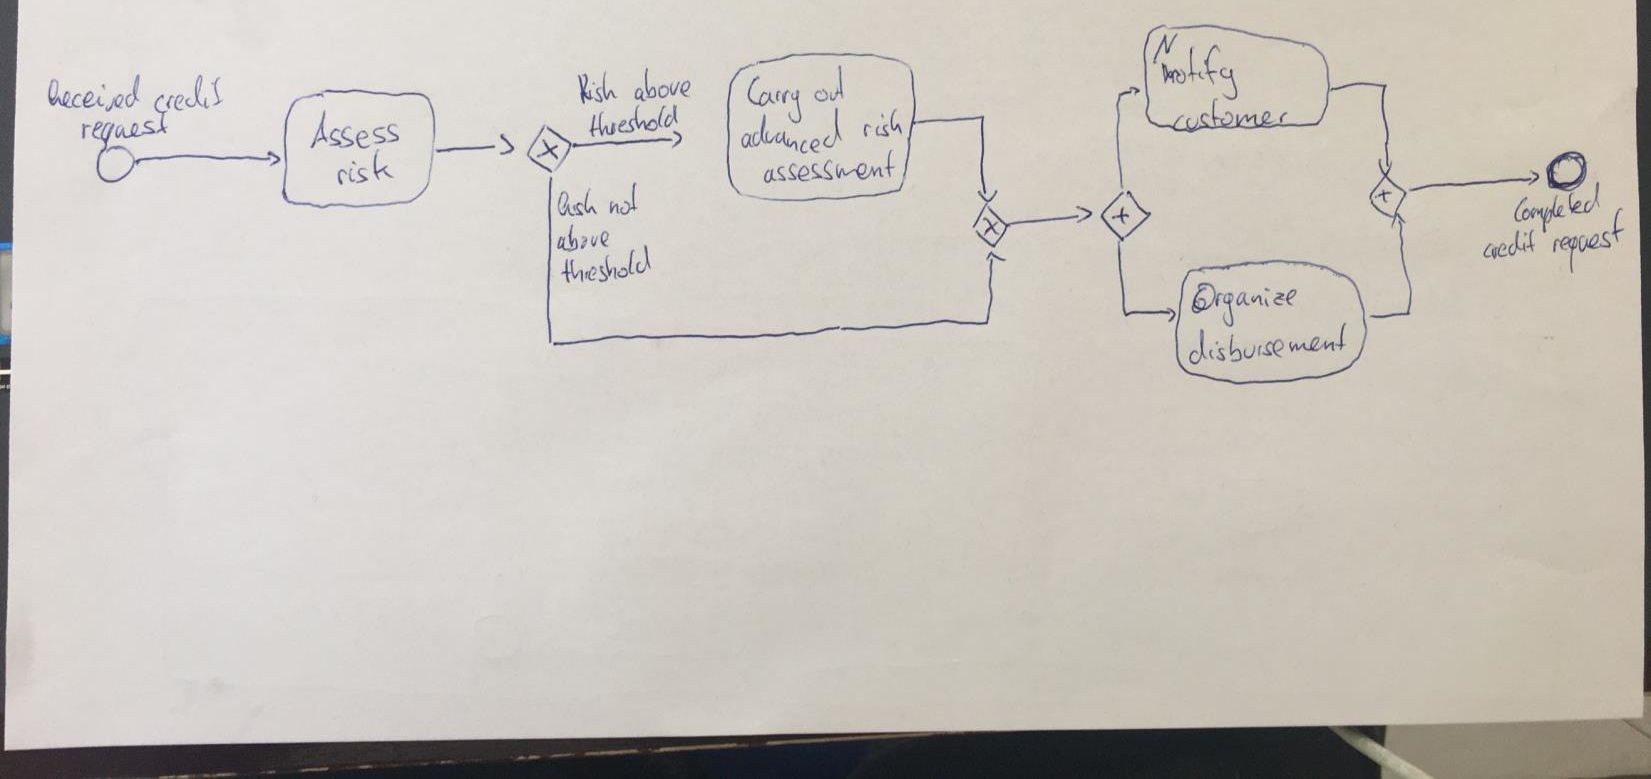Assess: (306, 109, 403, 152)
Carry: (744, 71, 805, 127)
Completed: (1510, 178, 1606, 236)
Organize: (1190, 282, 1300, 329)
Received: (44, 73, 143, 116)
Risk: (574, 68, 619, 107), (553, 185, 602, 219)
above: (631, 65, 695, 105), (553, 223, 613, 254)
advanced: (736, 105, 847, 158)
assessment: (759, 152, 897, 188)
credit: (152, 73, 225, 117), (1479, 227, 1540, 264)
customer: (1169, 96, 1292, 135)
disbursement: (1186, 322, 1348, 368)
not: (606, 180, 642, 220)
notify: (1158, 42, 1240, 103)
out: (811, 62, 851, 106)
request: (1549, 205, 1628, 277), (78, 111, 173, 155)
rish: (859, 105, 906, 141)
risk: (332, 146, 398, 189)
threshold: (557, 244, 654, 287), (586, 102, 683, 140)
